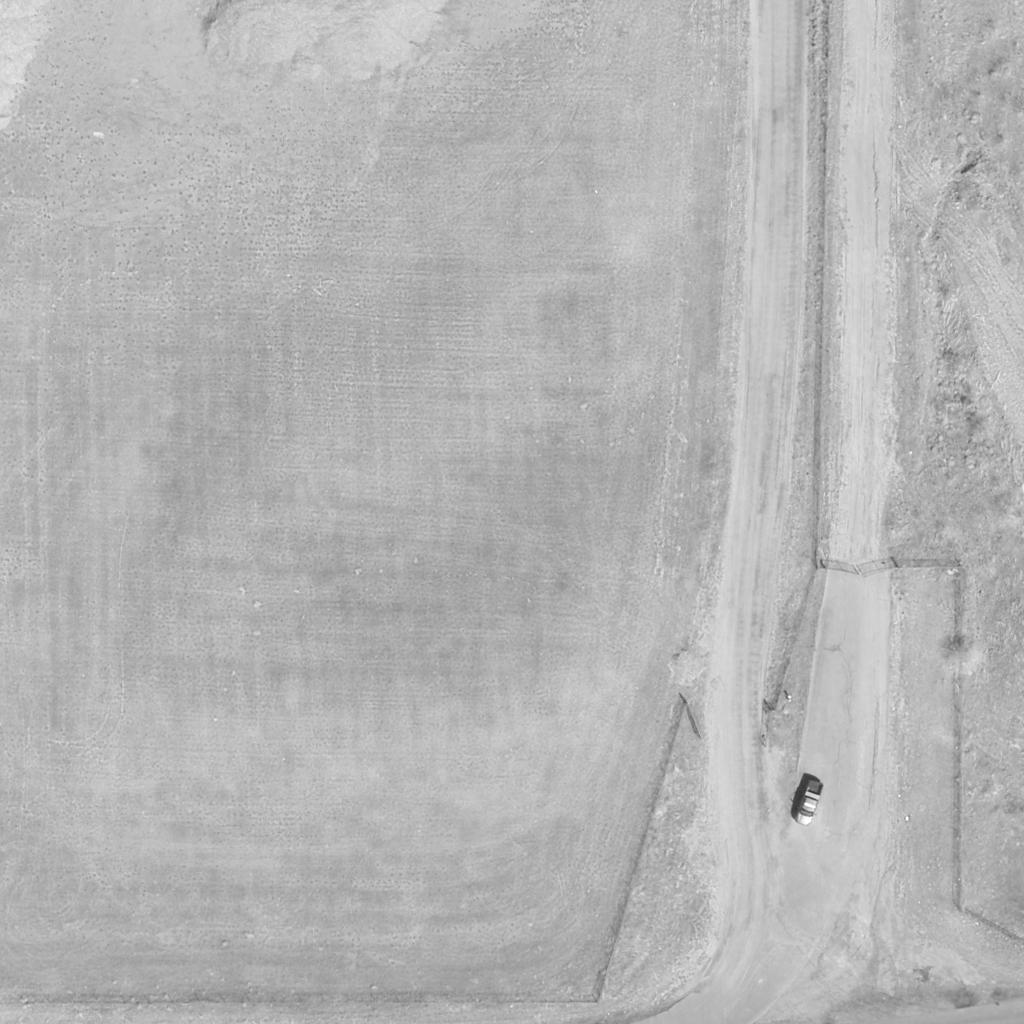vehicle: (798, 780, 824, 822)
